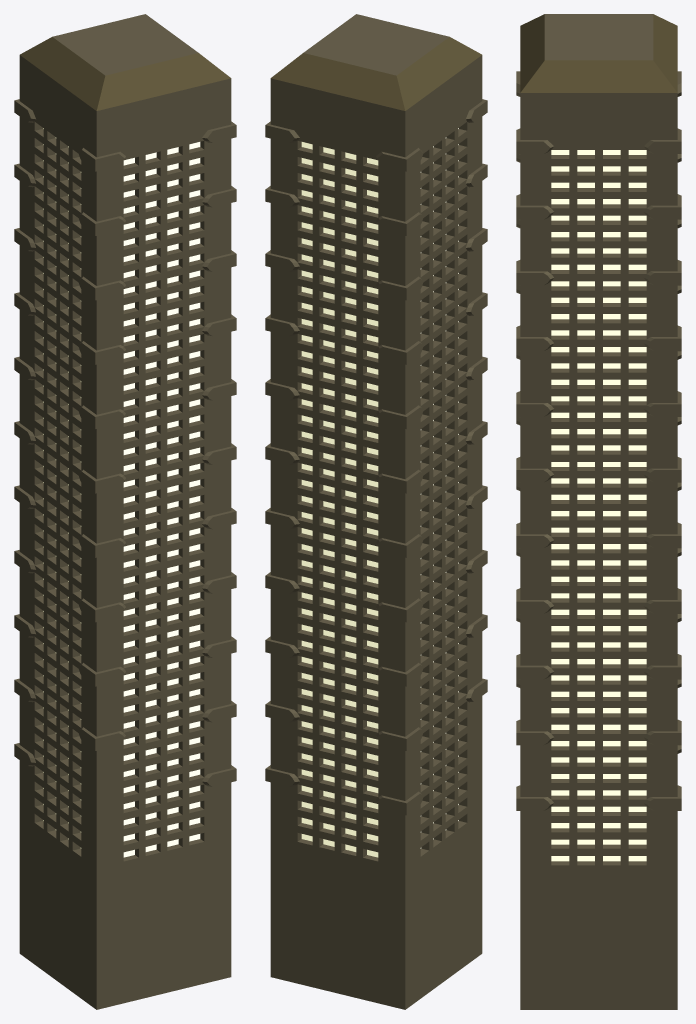
Rendered from Tower4.fbx.
3 renders of one model, left to right at view 1: azimuth 30°, elevation 25°; view 2: azimuth 150°, elevation 25°; view 3: azimuth 270°, elevation 25°, orthographic. The views are drawn at different scales.
Parts seen in each view (by area): view 1: Tower4; view 2: Tower4; view 3: Tower4.
Part boxes in pixels (bbox=[...]): Tower4: bbox=[14, 14, 236, 1009]; Tower4: bbox=[265, 14, 487, 1009]; Tower4: bbox=[516, 14, 681, 1009].
Bounding box in the file's own units: 1437 × 8943 × 1424.
